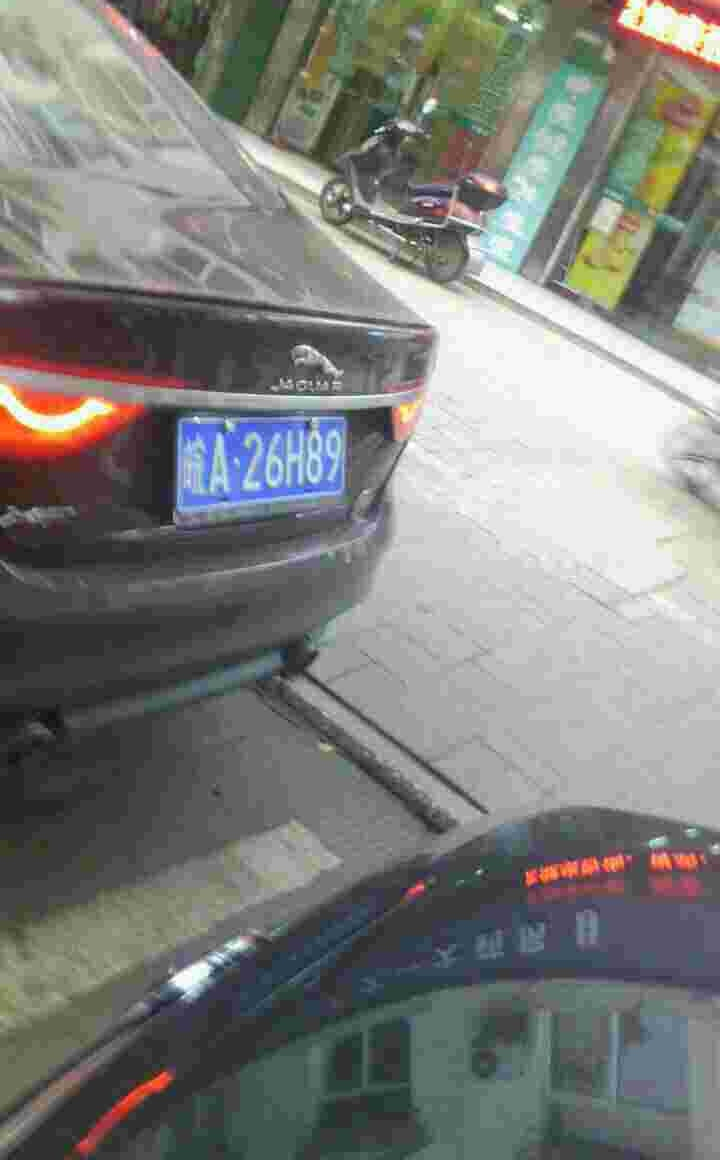license_plate: (186, 416, 354, 513)
